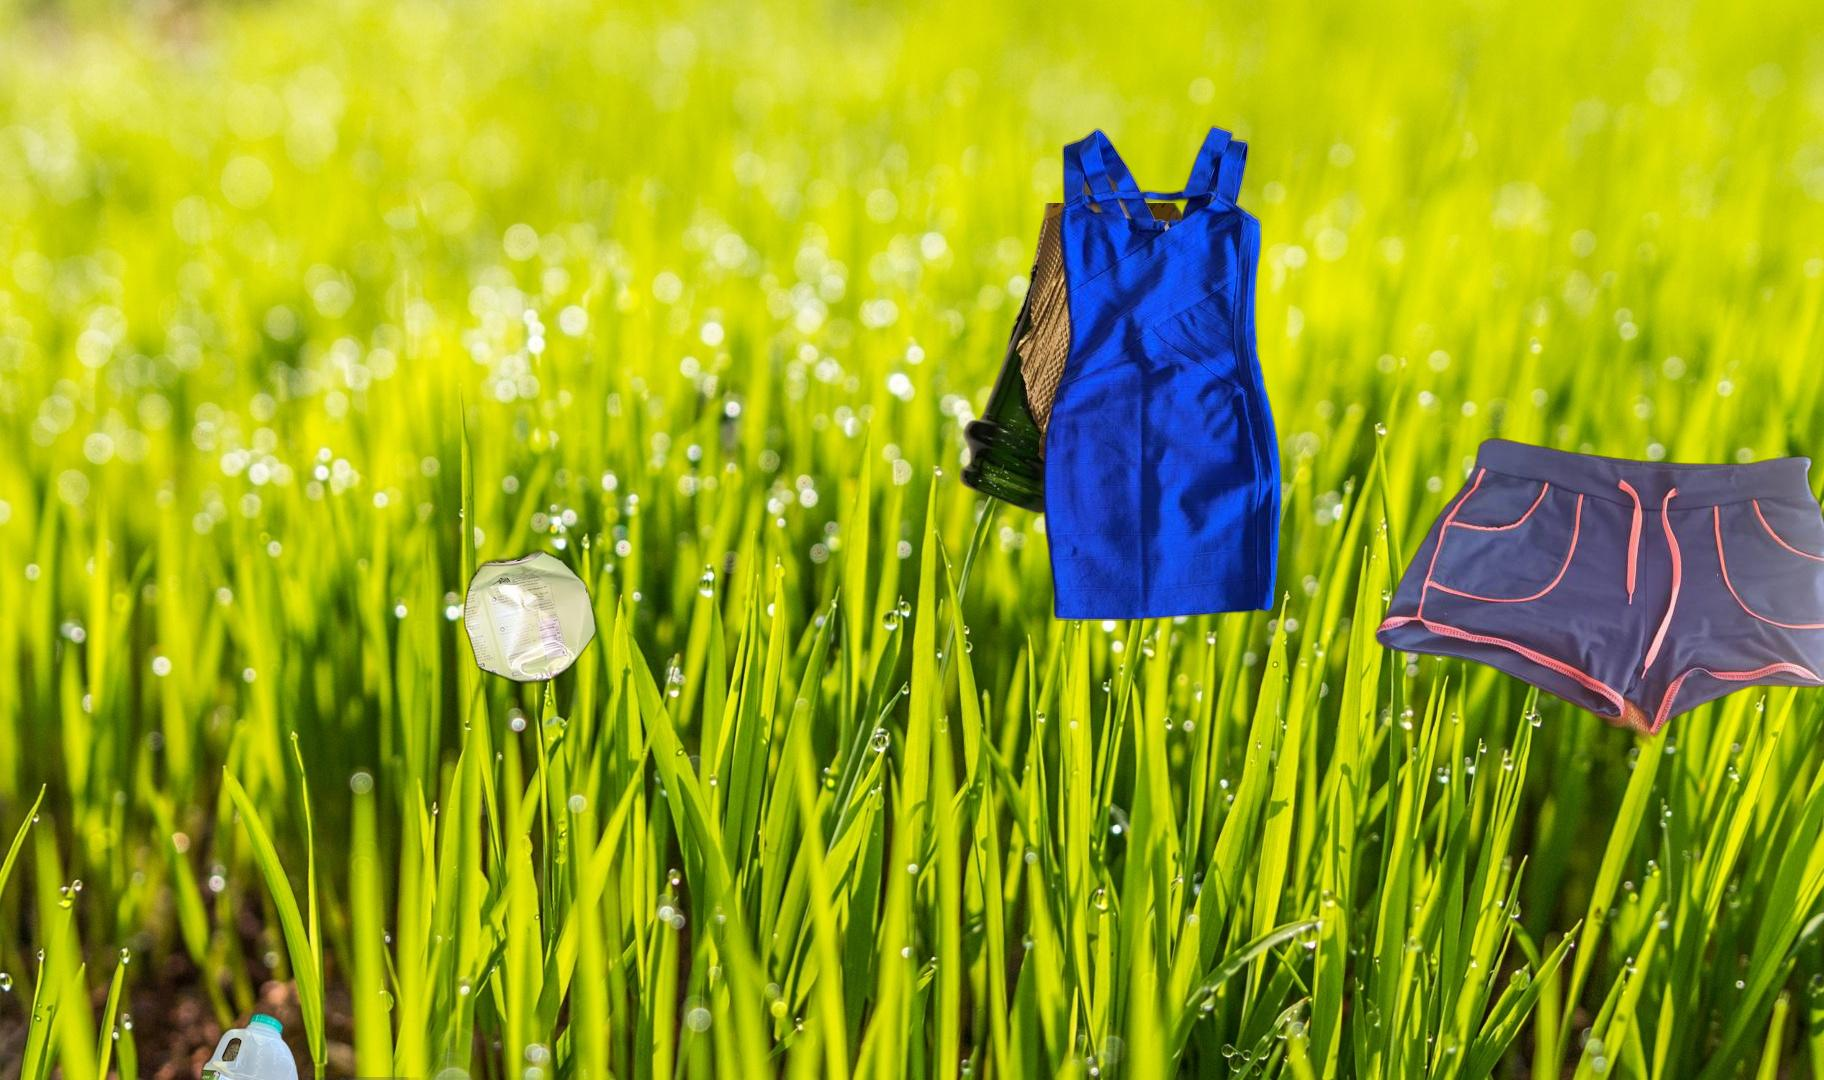clothes: (1040, 121, 1334, 621), (1372, 435, 1824, 753)
glass: (955, 203, 1192, 516)
metal-cans: (459, 545, 602, 688)
plastic-bottles: (194, 1007, 305, 1080)
trash: (287, 1077, 562, 1080)
